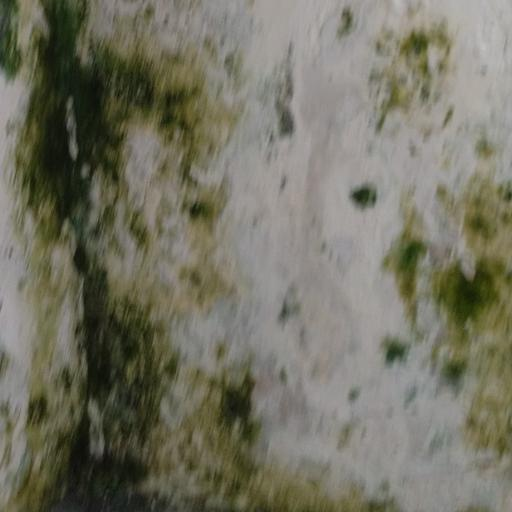algae: (0, 0, 449, 511)
